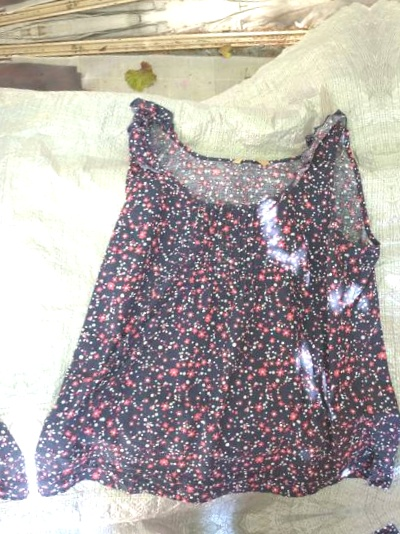Dress: (0, 73, 400, 519), (0, 120, 32, 534), (385, 25, 400, 472), (48, 533, 400, 534)
